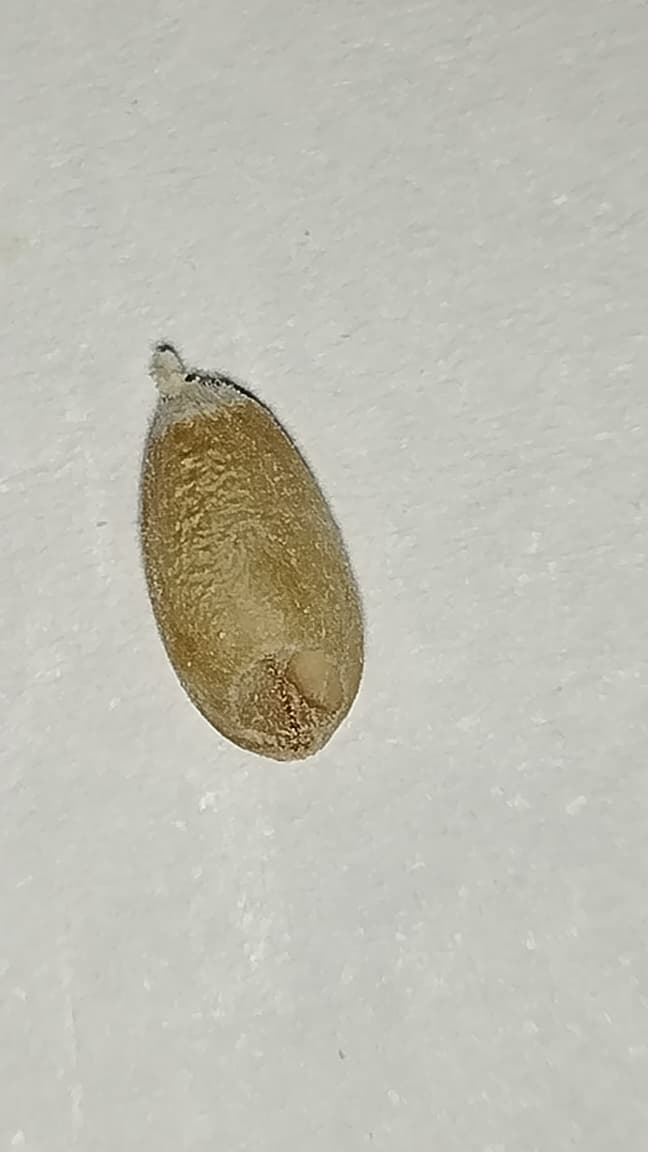damage: (145, 343, 362, 759)
insectdamage: (217, 628, 363, 773)
molddamage: (148, 341, 272, 440)
